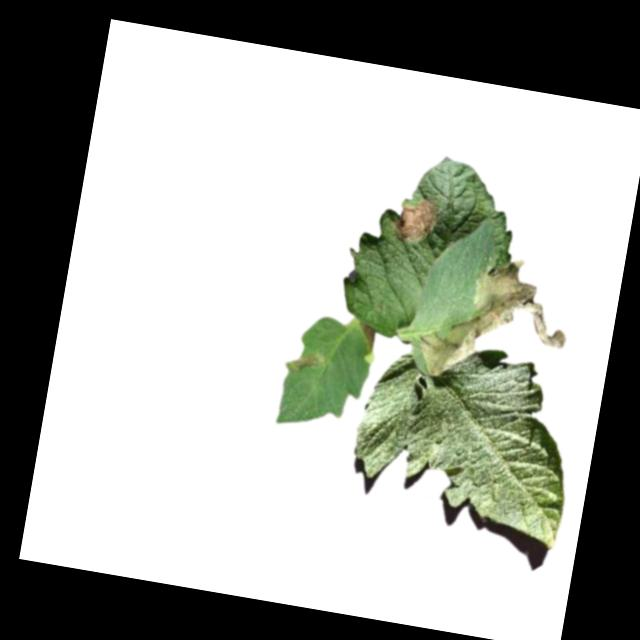Late_blight: (412, 243, 579, 396), (381, 189, 441, 248), (284, 347, 325, 375), (355, 321, 378, 352)
